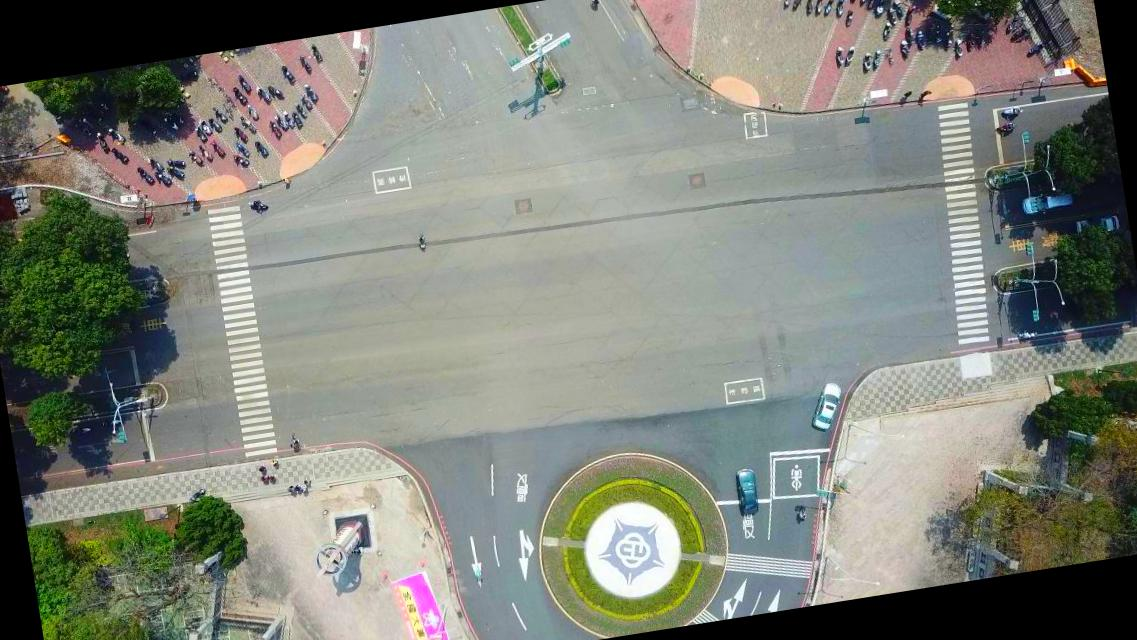vehicle: (805, 379, 848, 432), (731, 466, 762, 519), (1021, 188, 1078, 214)
